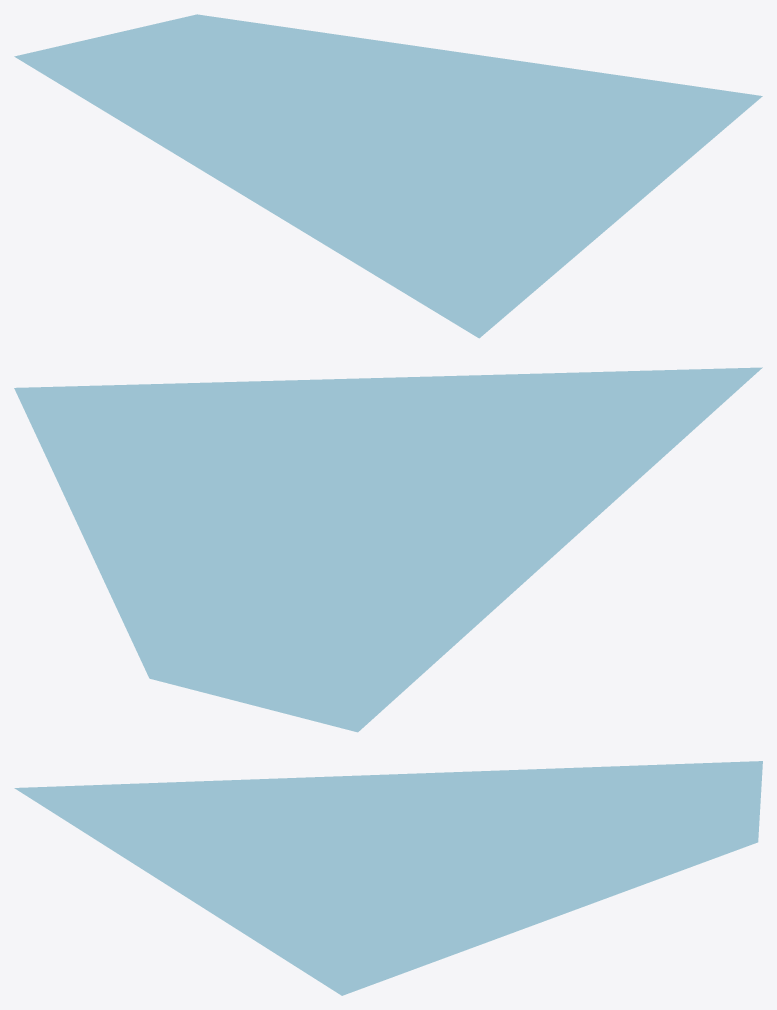
File: terrain-context-C-x2-z1.glb
The picture shows the model from 3 angles, top to bottom: view 1: azimuth 30°, elevation 25°; view 2: azimuth 150°, elevation 25°; view 3: azimuth 270°, elevation 25°; orthographic projection. The views are drawn at different scales.
Parts seen in each view (by area): view 1: C-x2-z1; view 2: C-x2-z1; view 3: C-x2-z1.
Boxes of the visible parts, x1=… form: C-x2-z1: x1=14, y1=14, x2=762, y2=338; C-x2-z1: x1=14, y1=367, x2=762, y2=732; C-x2-z1: x1=14, y1=761, x2=762, y2=995.
Size of the model in its own units: 169 by 3.06e-05 by 228.
